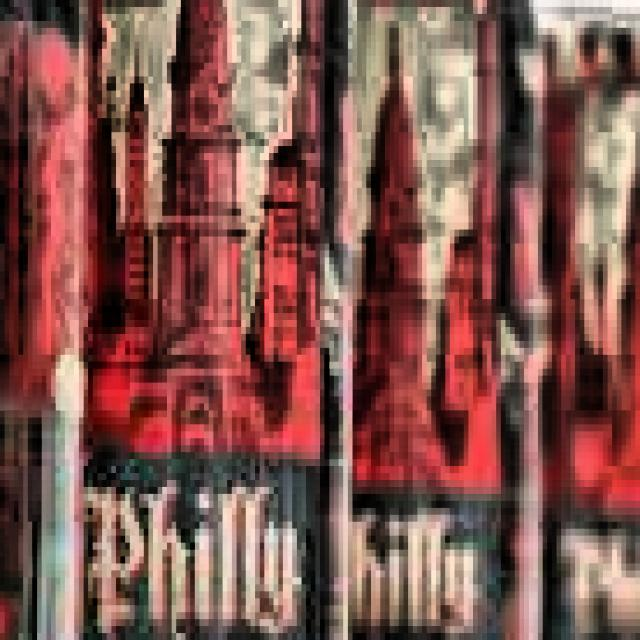metal: (79, 0, 352, 640), (334, 0, 552, 640), (515, 0, 640, 640)
